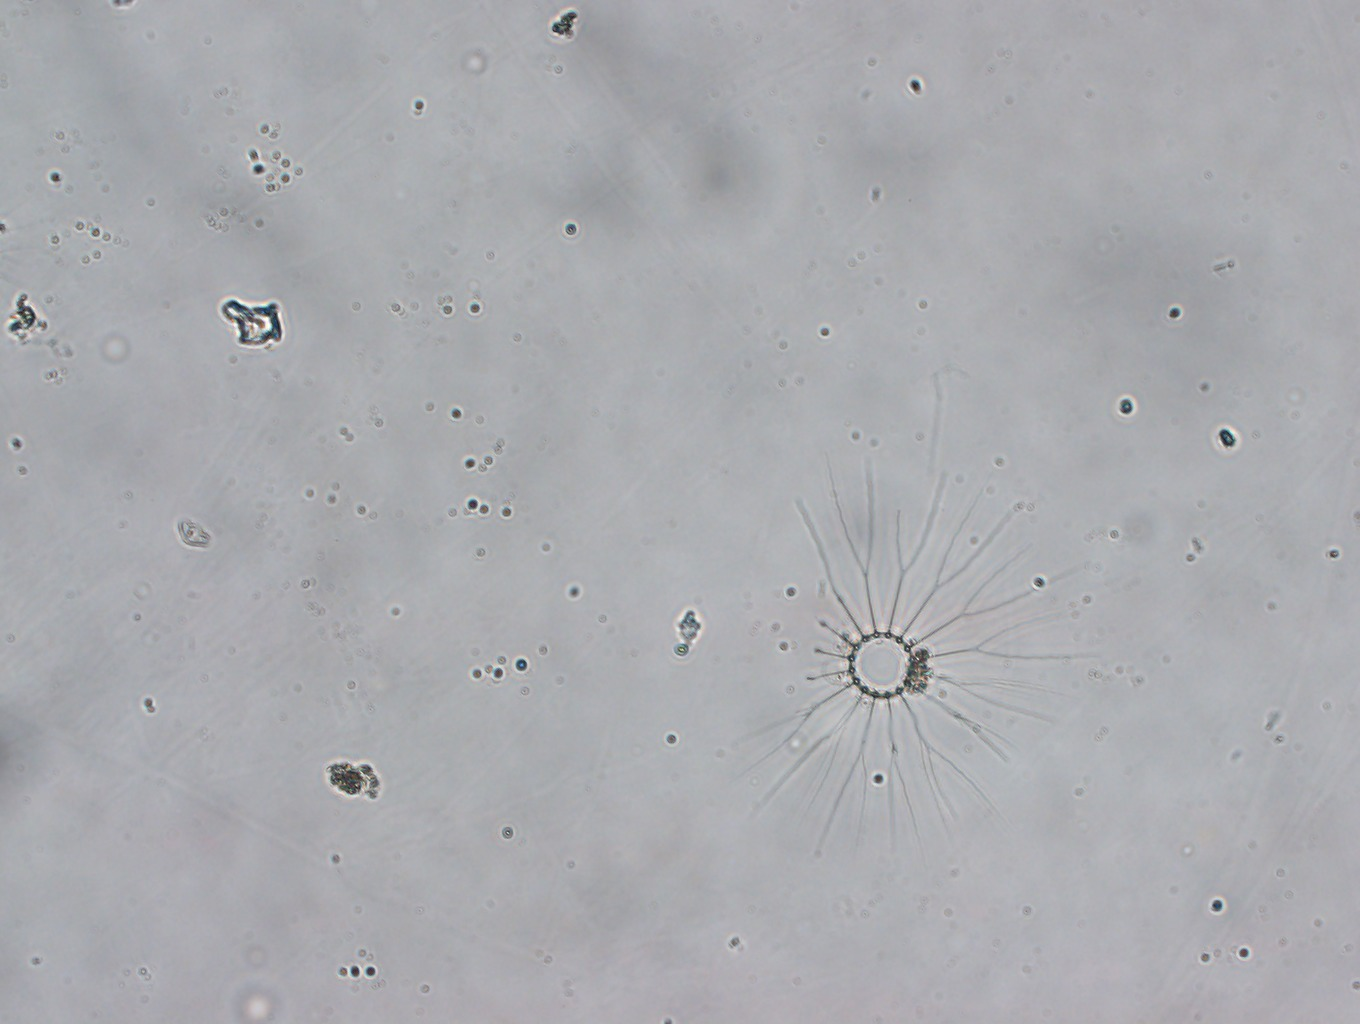bacteriastrum: (703, 459, 1111, 863)
